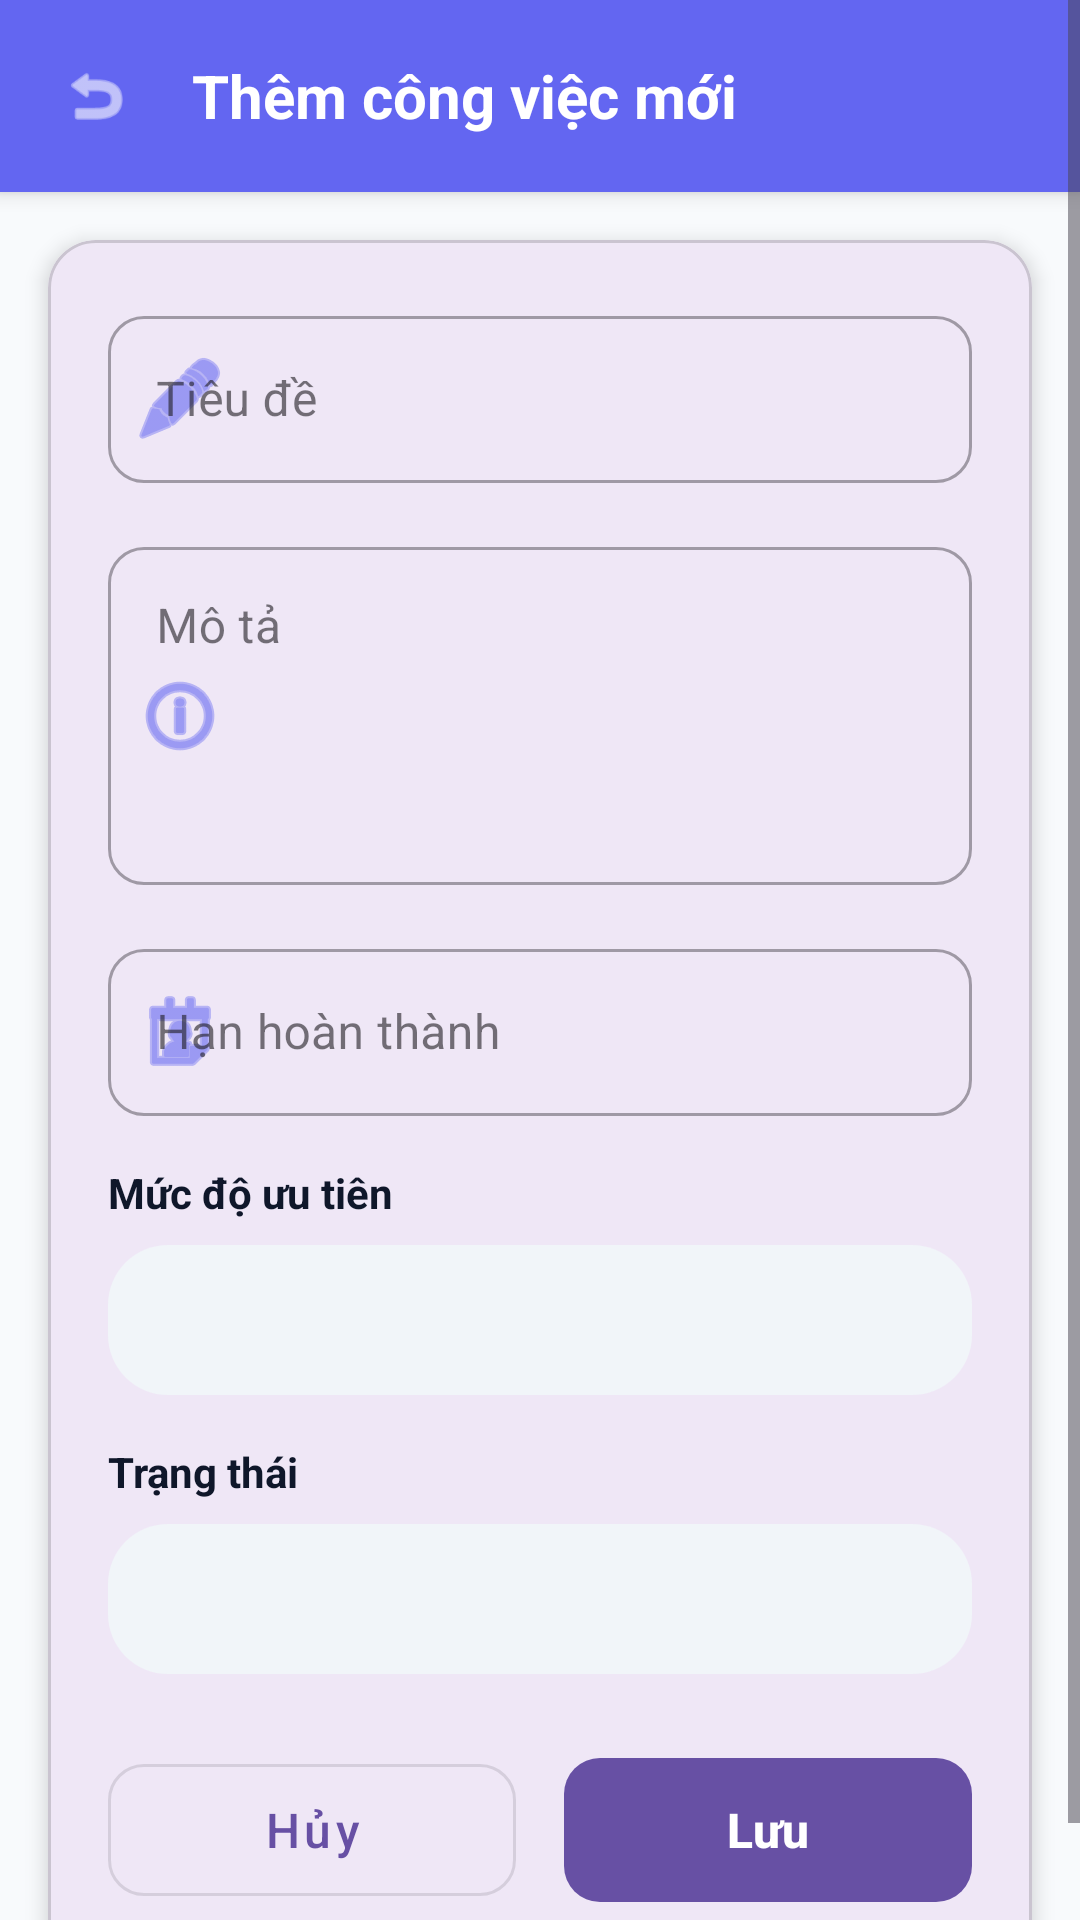

Icon click points for this 1080px x 1920px phone screenshot, format point (x, y):
revert: point (97, 96)
